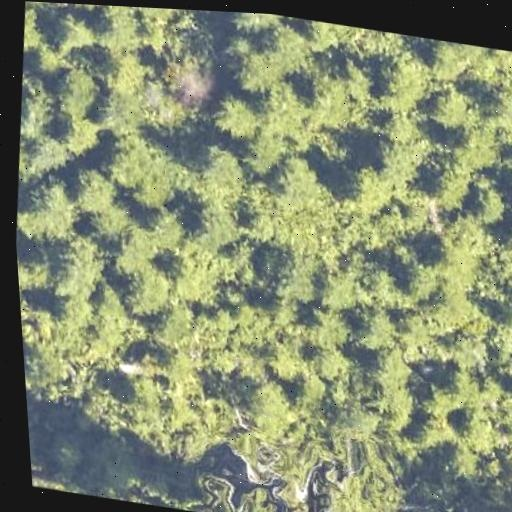tree-top: (94, 124, 186, 206), (20, 162, 114, 238), (295, 62, 372, 139), (161, 235, 236, 314), (364, 44, 441, 119), (311, 455, 411, 512), (42, 228, 115, 305), (183, 135, 256, 208), (12, 170, 84, 243), (259, 150, 333, 219), (220, 33, 290, 105), (237, 373, 306, 446), (151, 44, 223, 112), (87, 80, 157, 146), (333, 156, 399, 220), (418, 226, 483, 290), (257, 246, 320, 310), (185, 195, 254, 253), (206, 85, 269, 148), (115, 260, 180, 321), (46, 58, 110, 118), (147, 296, 207, 358), (418, 153, 479, 212), (67, 162, 125, 223), (421, 81, 483, 138), (114, 365, 165, 431), (94, 44, 155, 99), (311, 258, 369, 315), (43, 5, 101, 62), (377, 103, 435, 159), (451, 122, 510, 176), (88, 5, 151, 55), (364, 338, 419, 393), (449, 404, 502, 460), (17, 78, 66, 137), (350, 300, 403, 354), (461, 174, 512, 230), (443, 326, 496, 377), (422, 38, 474, 88), (16, 241, 59, 299), (395, 254, 444, 304), (262, 336, 310, 387), (477, 77, 512, 144), (220, 478, 287, 512), (23, 339, 64, 392), (50, 286, 98, 331), (427, 367, 471, 416), (410, 411, 455, 455), (227, 12, 290, 38), (20, 1, 46, 56), (486, 298, 512, 343), (498, 202, 512, 271), (64, 3, 113, 14)
